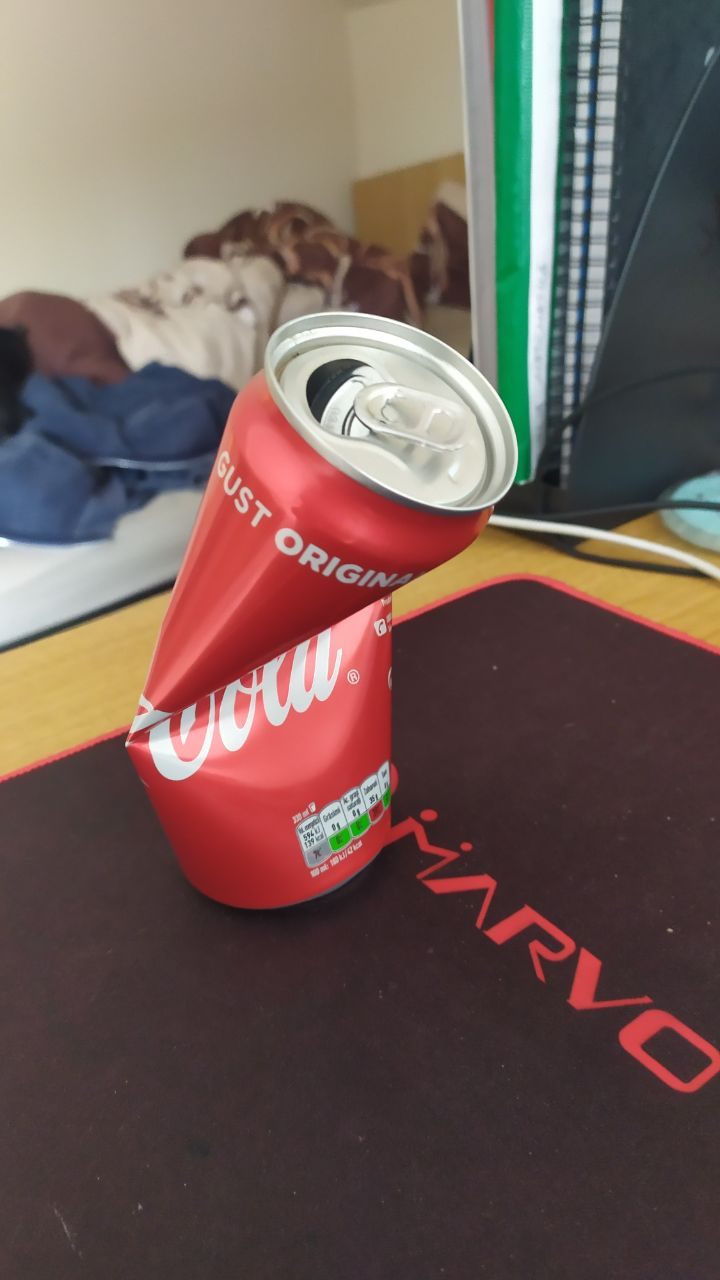Can: (121, 305, 525, 920)
